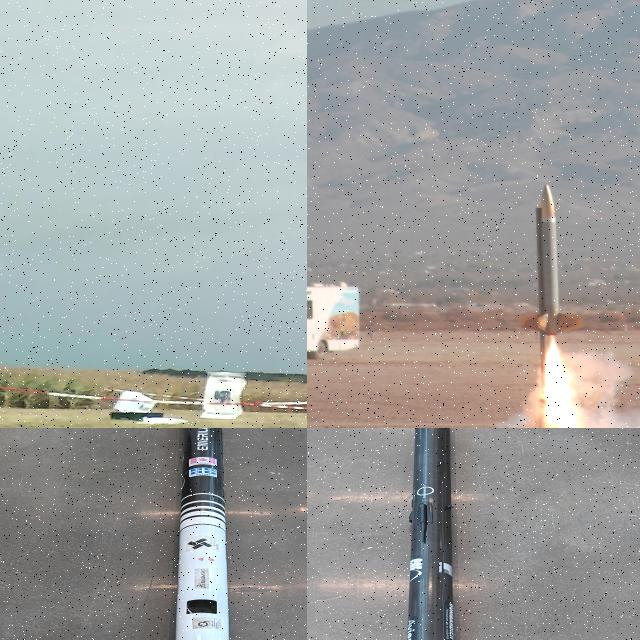Rocket: (174, 428, 230, 640), (407, 428, 455, 640), (520, 184, 585, 338)
